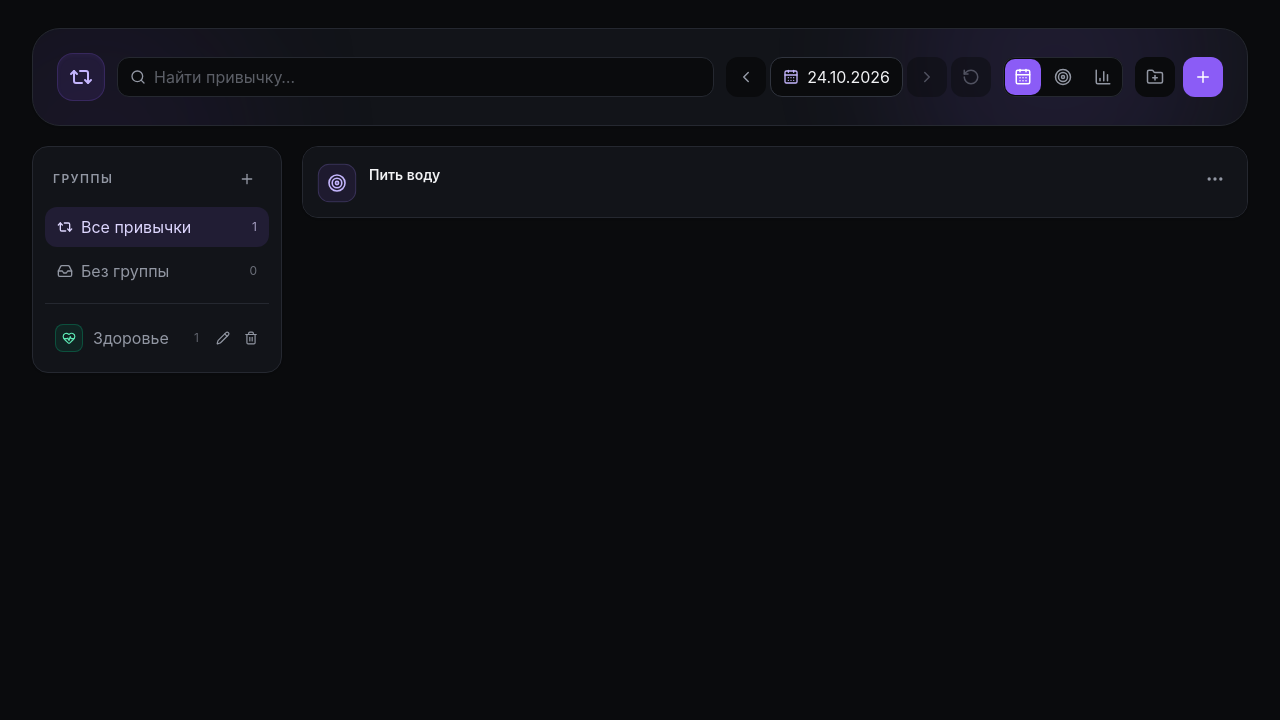
Test: HabitsPage › keeps search, views and date navigation in the header and opens the custom calendar
Expected: the search field named "Поиск по привычкам" is shown, [154, 65, 701, 89]
Expected: the button named "Сегодня" is shown, [1005, 59, 1041, 95]
Click the button named "Открыть календарь привычек" at [837, 77], box [770, 57, 903, 97]
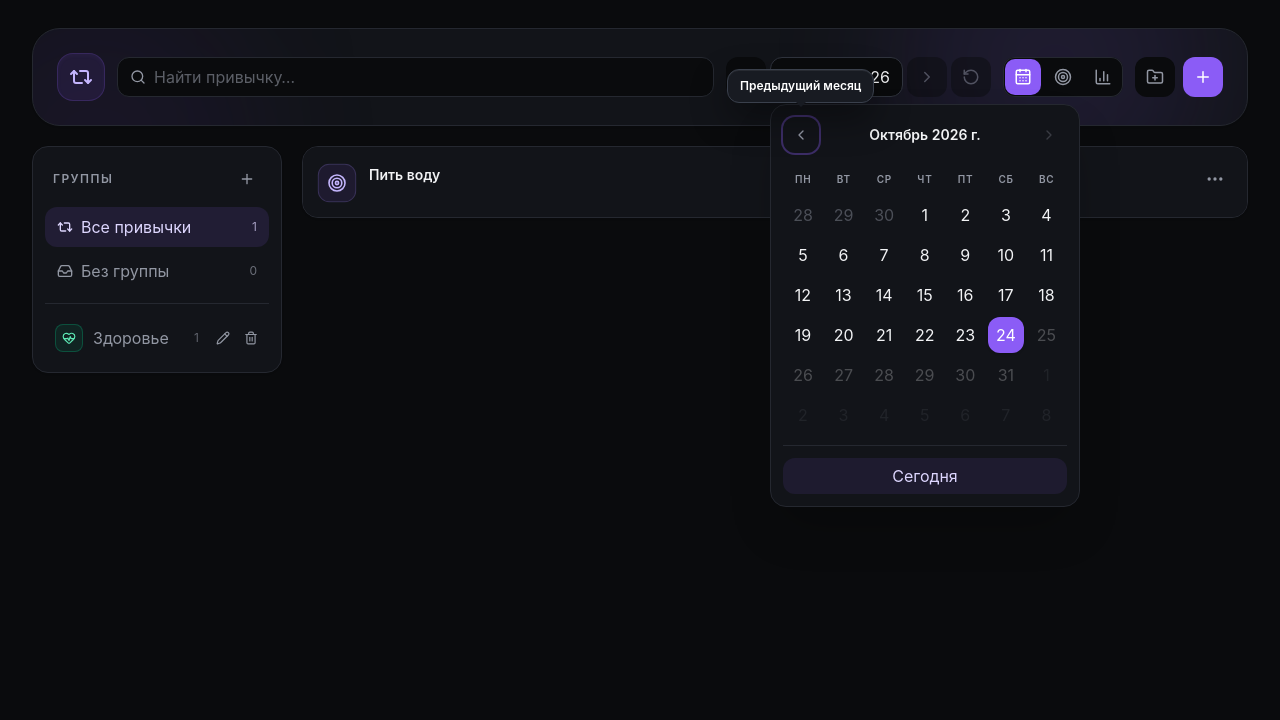
Expected: the button named "Следующий месяц" is disabled, [1031, 117, 1067, 153]
Result: the dialog with test id "habit-date-picker-popover" is shown at [770, 104, 1080, 507]
Result: the button named "Предыдущий месяц" is shown at [783, 117, 819, 153]
